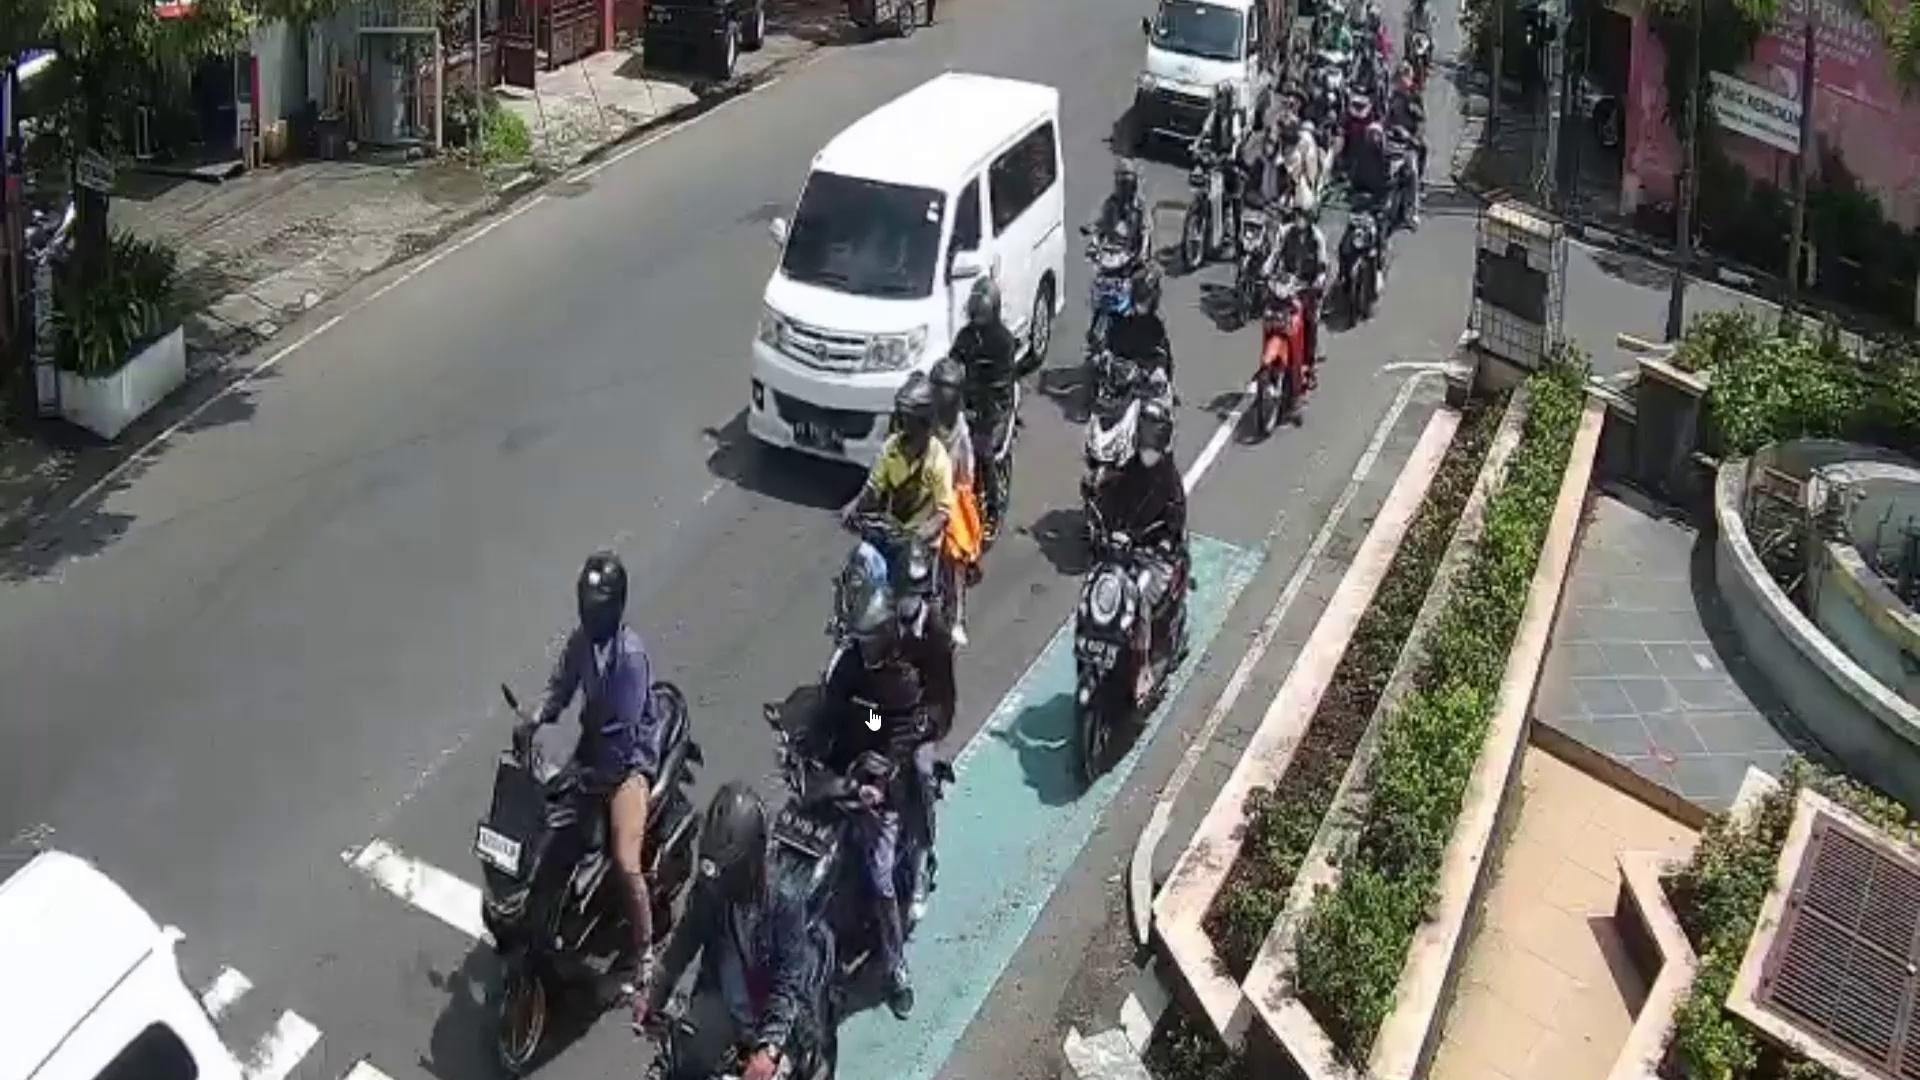car: (748, 69, 1064, 465), (1137, 0, 1275, 150)
motorbike: (477, 678, 695, 1076), (782, 741, 934, 980), (1077, 524, 1187, 787), (1254, 265, 1311, 429), (1085, 352, 1153, 476)
